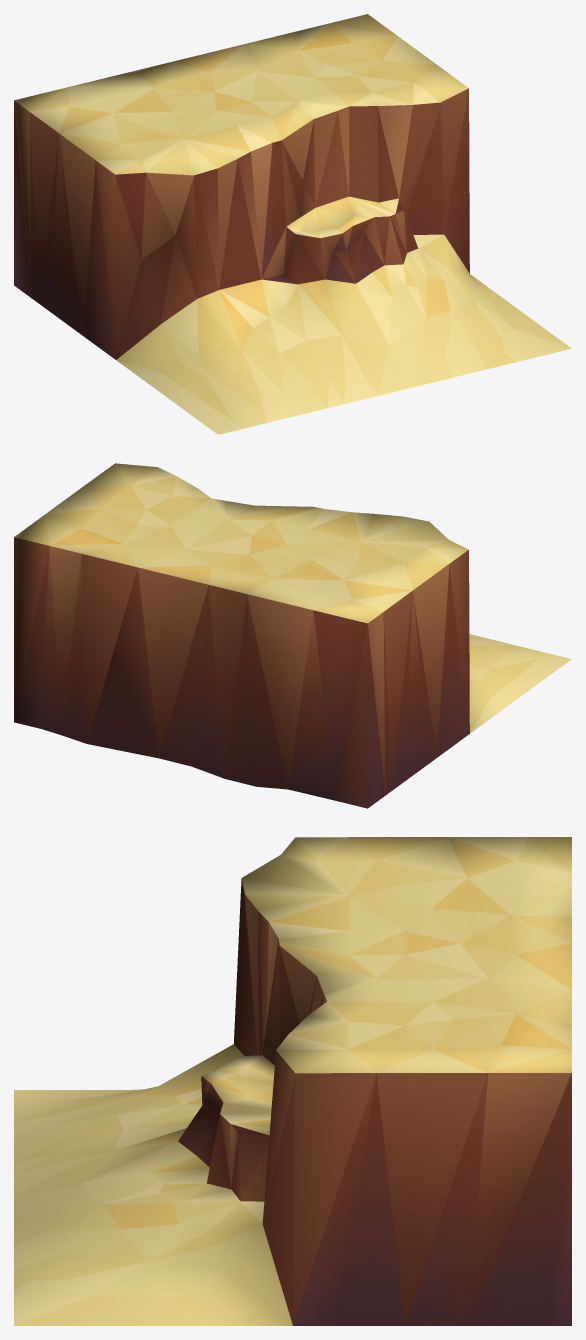
File: GL-Terrain-part-18.fbx
The picture shows the model from 3 angles, top to bottom: view 1: azimuth 30°, elevation 25°; view 2: azimuth 150°, elevation 25°; view 3: azimuth 270°, elevation 25°; orthographic projection. The views are drawn at different scales.
Parts seen in each view (by area): view 1: GL-Terrain-part-18; view 2: GL-Terrain-part-18; view 3: GL-Terrain-part-18.
Part boxes in pixels (x1,y1,x2,y2): GL-Terrain-part-18: (14,14,571,434); GL-Terrain-part-18: (14,463,571,808); GL-Terrain-part-18: (14,837,571,1325).
Bounding box in the file's own units: 6 × 3.11 × 6.
